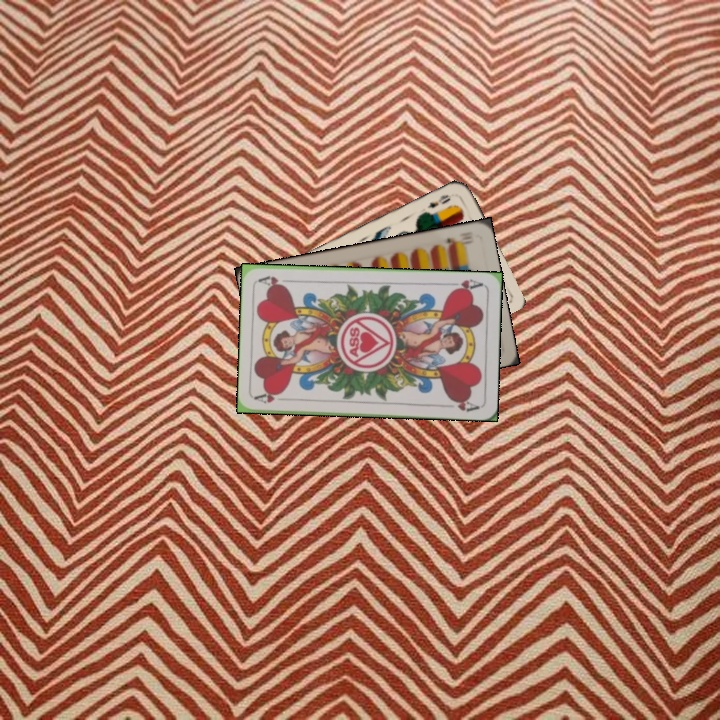E10: (443, 232, 474, 249)
EO: (423, 190, 453, 211)
HA: (445, 275, 485, 294), (252, 389, 284, 406)
